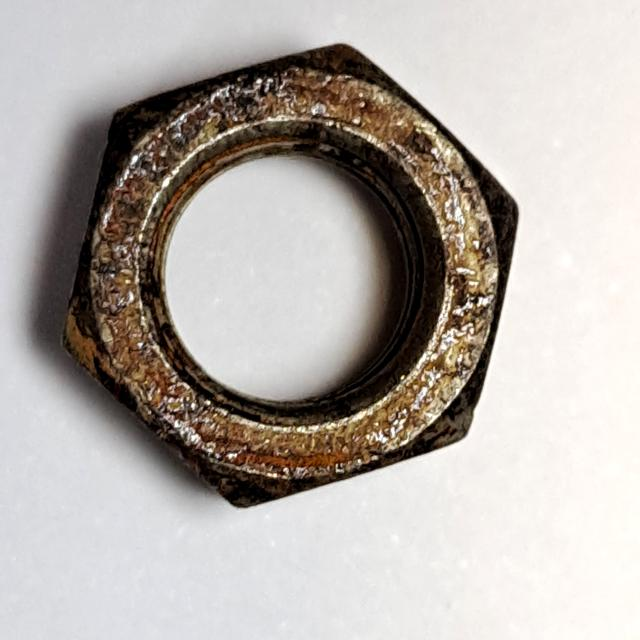Rust: (43, 34, 535, 523)
